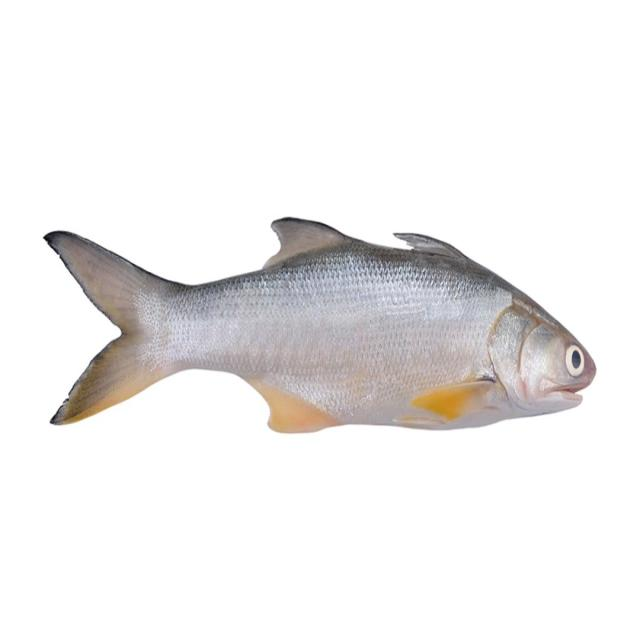Fourfinger-Threadfin: (24, 137, 620, 471)
